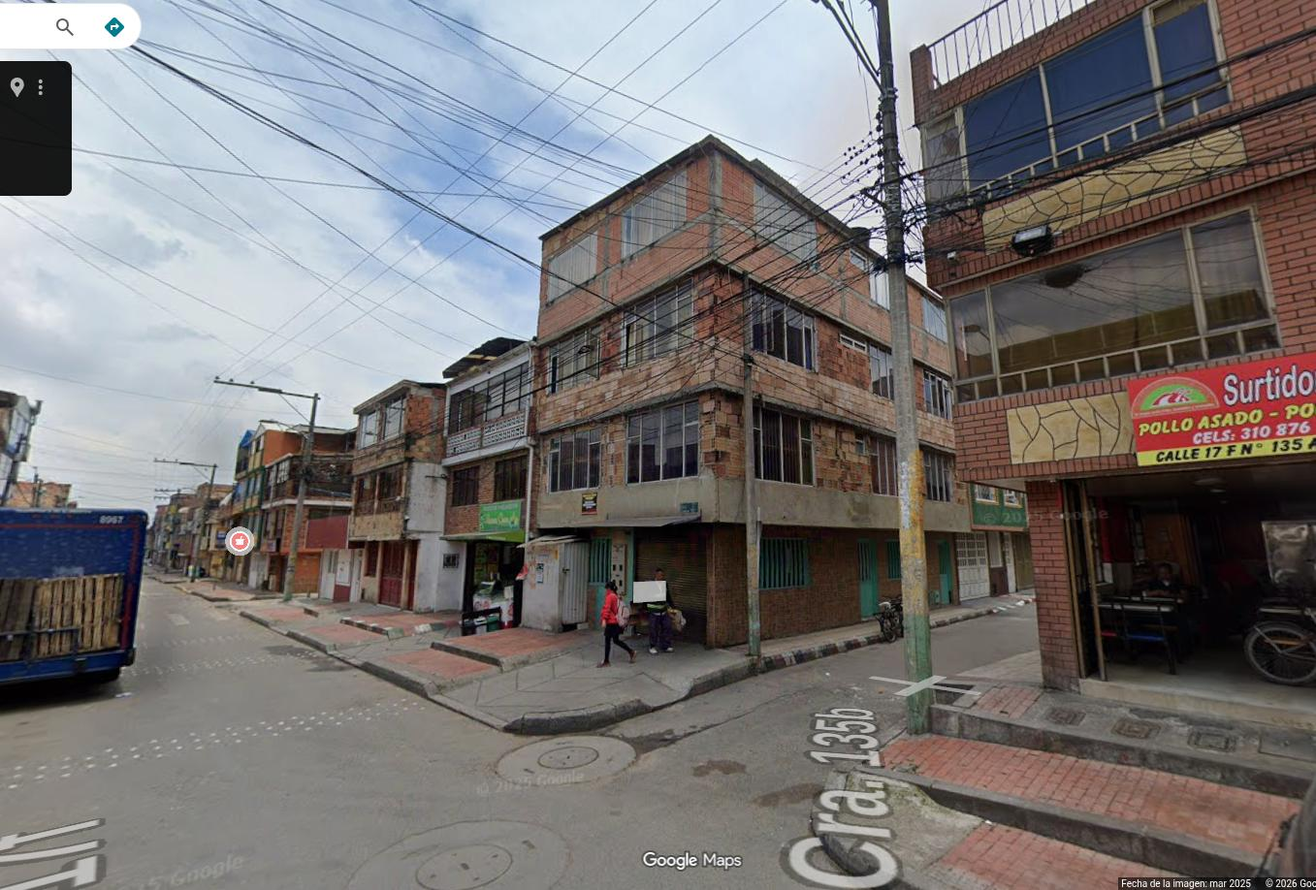casa: (912, 0, 1315, 730), (520, 136, 971, 646), (437, 337, 543, 609), (347, 379, 461, 610)
poste: (813, 0, 934, 734), (212, 377, 319, 601)
